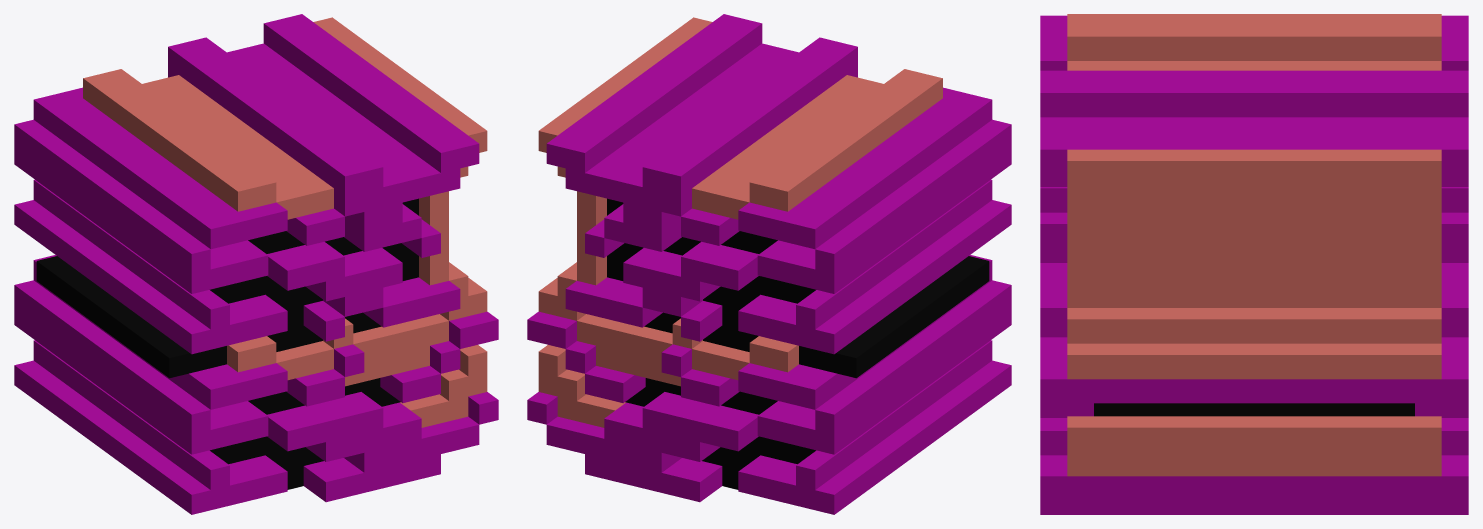
File: br-m-rock-purple.fbx
3 views of the same model, side by side, from view 1: azimuth 30°, elevation 25°; view 2: azimuth 150°, elevation 25°; view 3: azimuth 270°, elevation 25° (orthographic). The views are drawn at different scales.
Parts seen in each view (by area): view 1: color, highlight, base; view 2: color, highlight, base; view 3: highlight, color, base.
Part boxes in pixels (left/top/right/bottom): color: left=14, top=14, right=498, bottom=514; highlight: left=83, top=17, right=487, bottom=427; base: left=36, top=198, right=418, bottom=489; color: left=527, top=14, right=1011, bottom=514; highlight: left=538, top=17, right=942, bottom=427; base: left=607, top=198, right=989, bottom=489; highlight: left=1067, top=14, right=1441, bottom=476; color: left=1040, top=15, right=1468, bottom=514; base: left=1094, top=403, right=1414, bottom=416.
Size of the model in its own units: 100 by 100 by 100.
